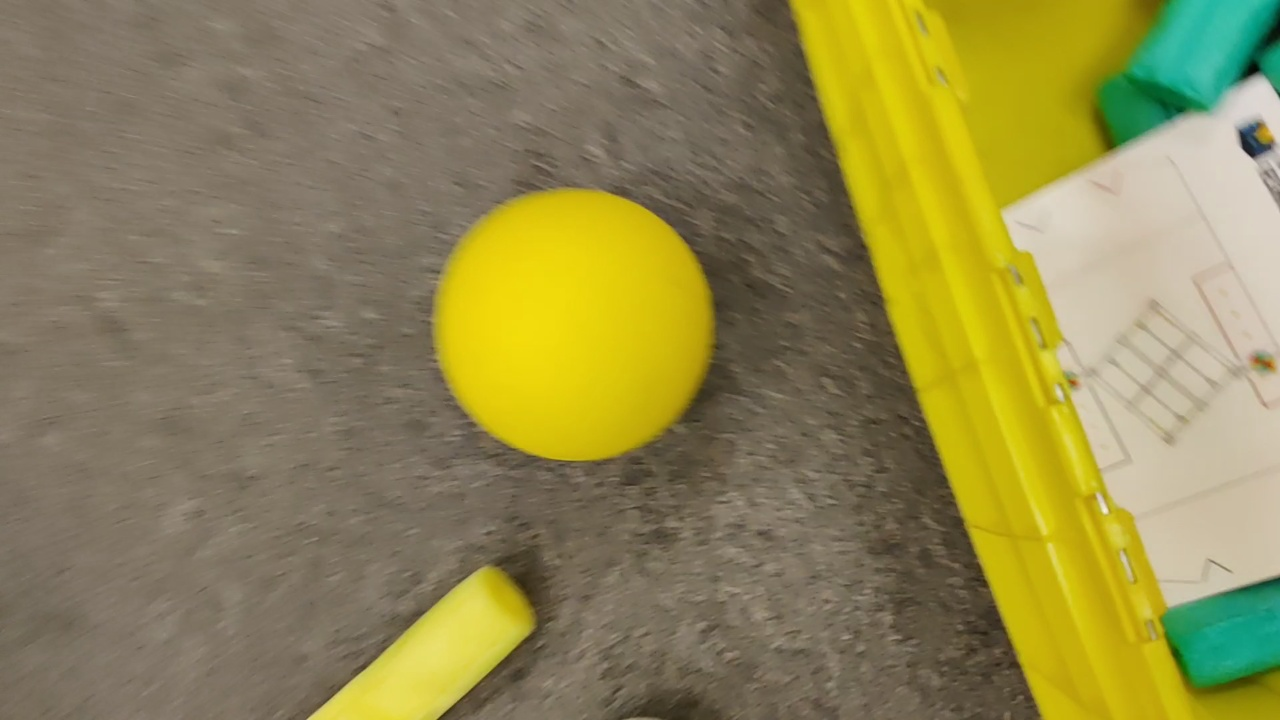Ball: (432, 187, 718, 462)
